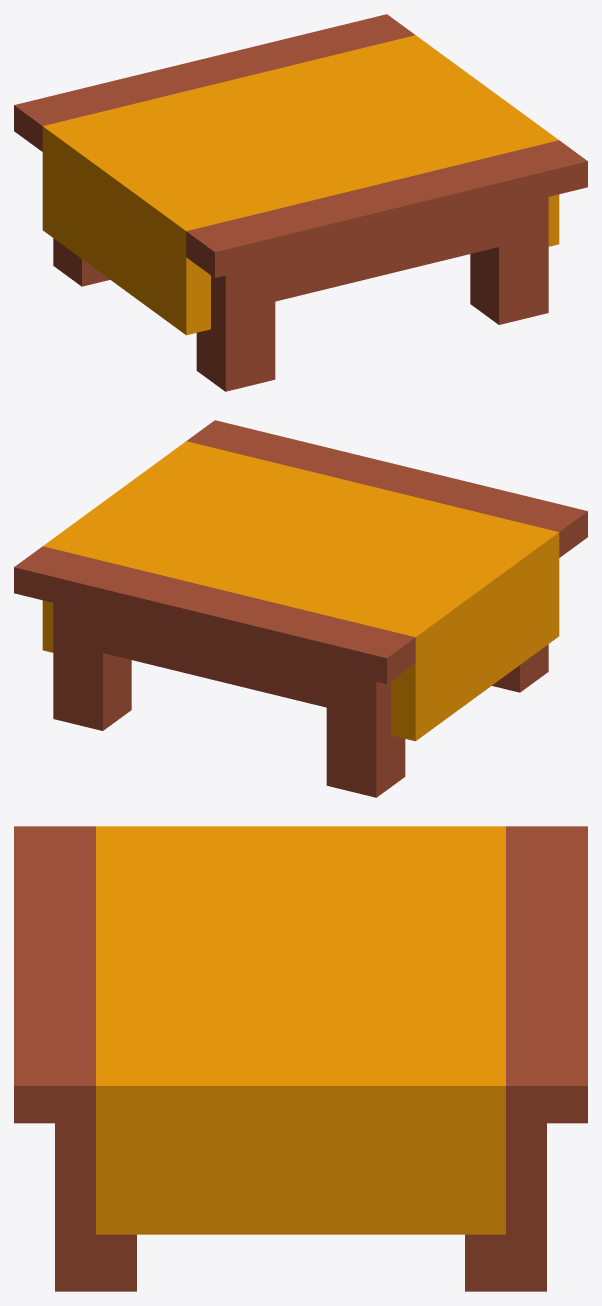
File: small_table_a_yellow.obj
3 views of the same model, one above another, from view 1: azimuth 30°, elevation 25°; view 2: azimuth 150°, elevation 25°; view 3: azimuth 270°, elevation 25° (orthographic). The views are drawn at different scales.
Size of the model in its own units: 1.5 by 0.6 by 1.4.
Materials: 1 (1 with a texture image).
